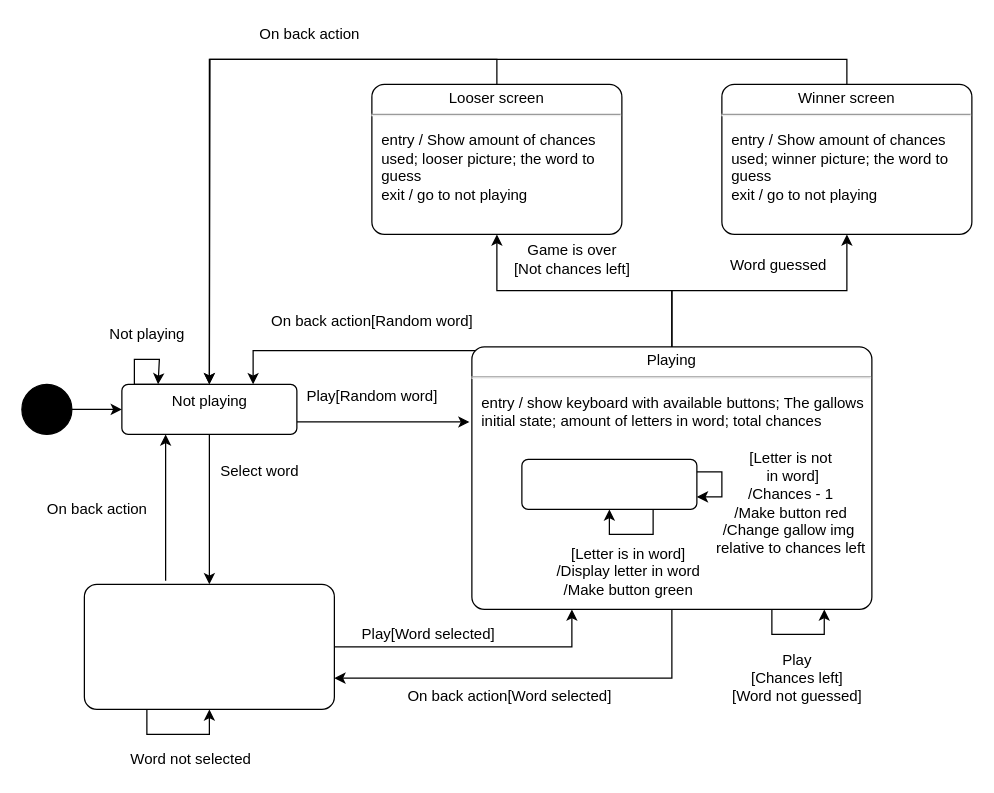
This 994x793 diagram has some shape labels left out. Here are the shapes that lost their labels. From the top down, the centre of each, then its label:
At (x=609, y=483): "Letter selected".
At (x=208, y=646): "Select word entry / show list of available words".
